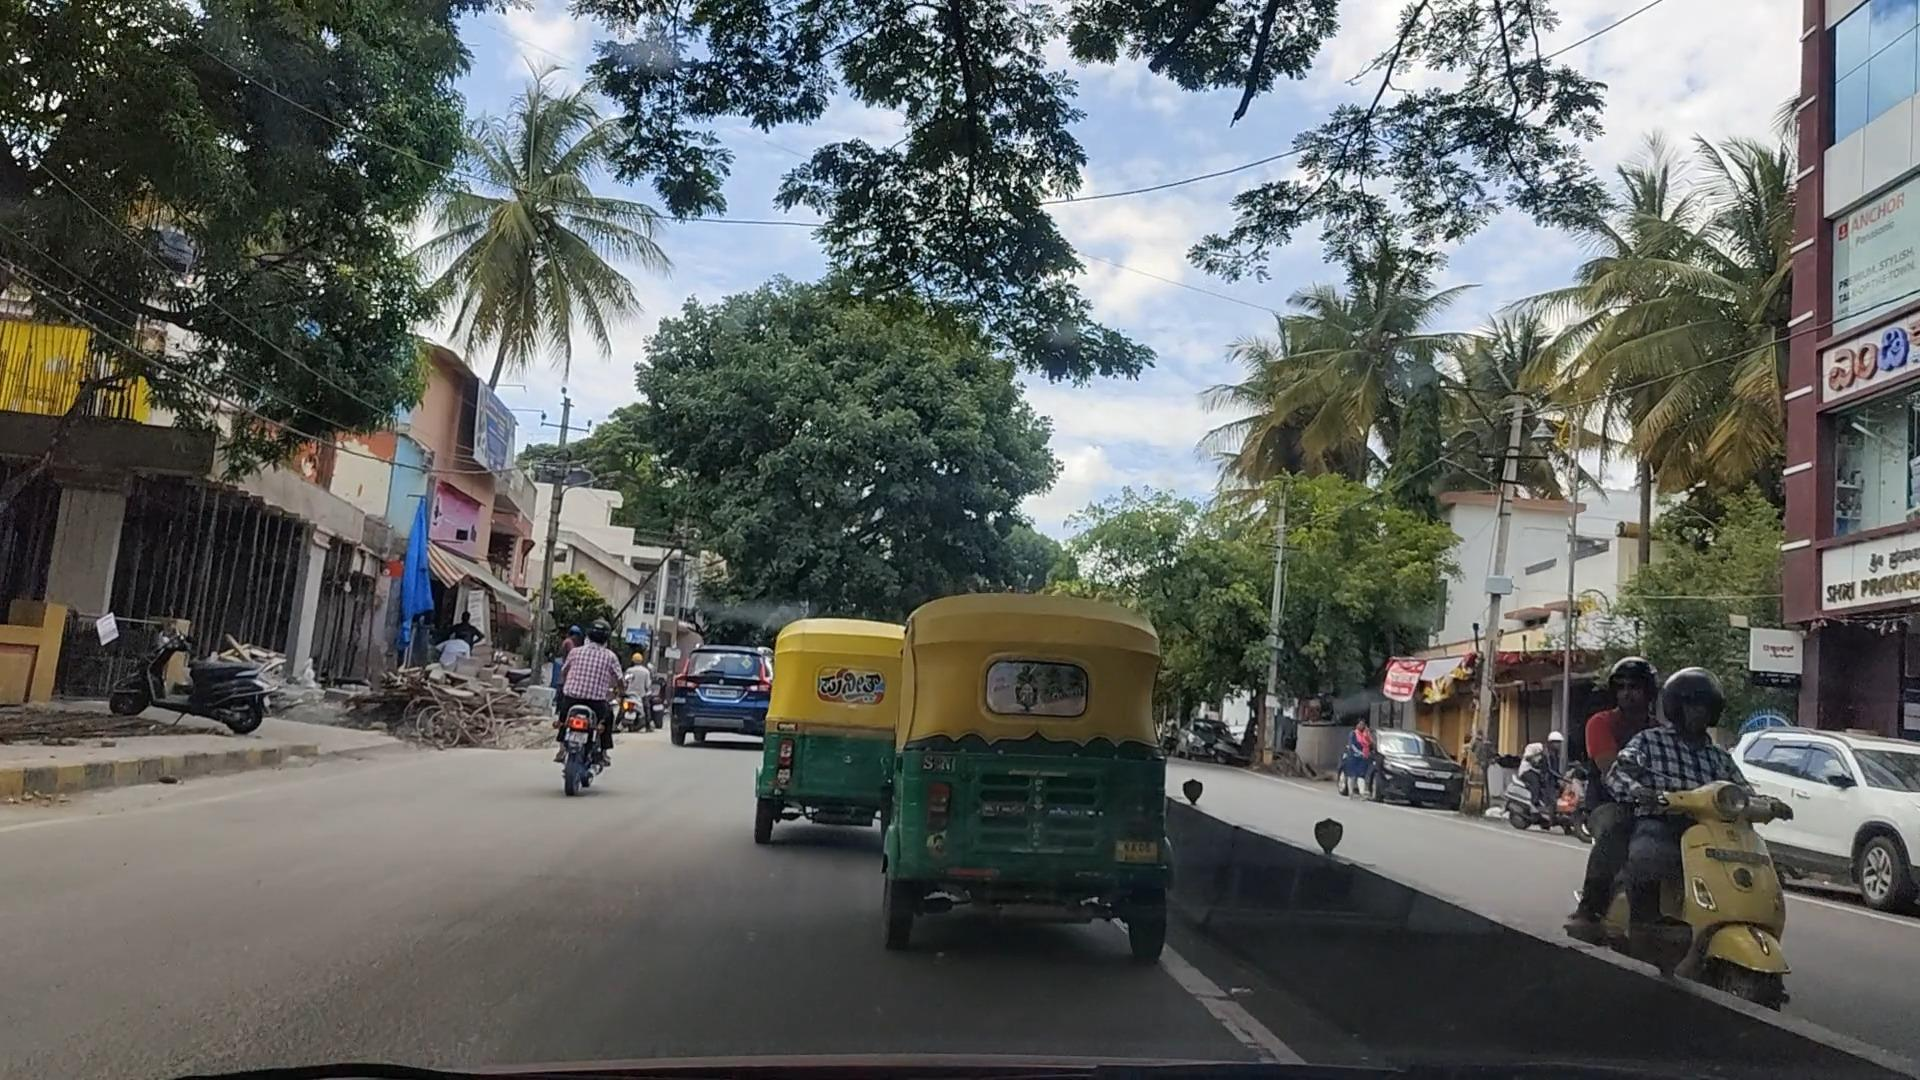LMV: (895, 588, 1174, 964), (758, 625, 910, 836), (518, 611, 653, 794)
RoadDamages: (103, 931, 601, 1075)
